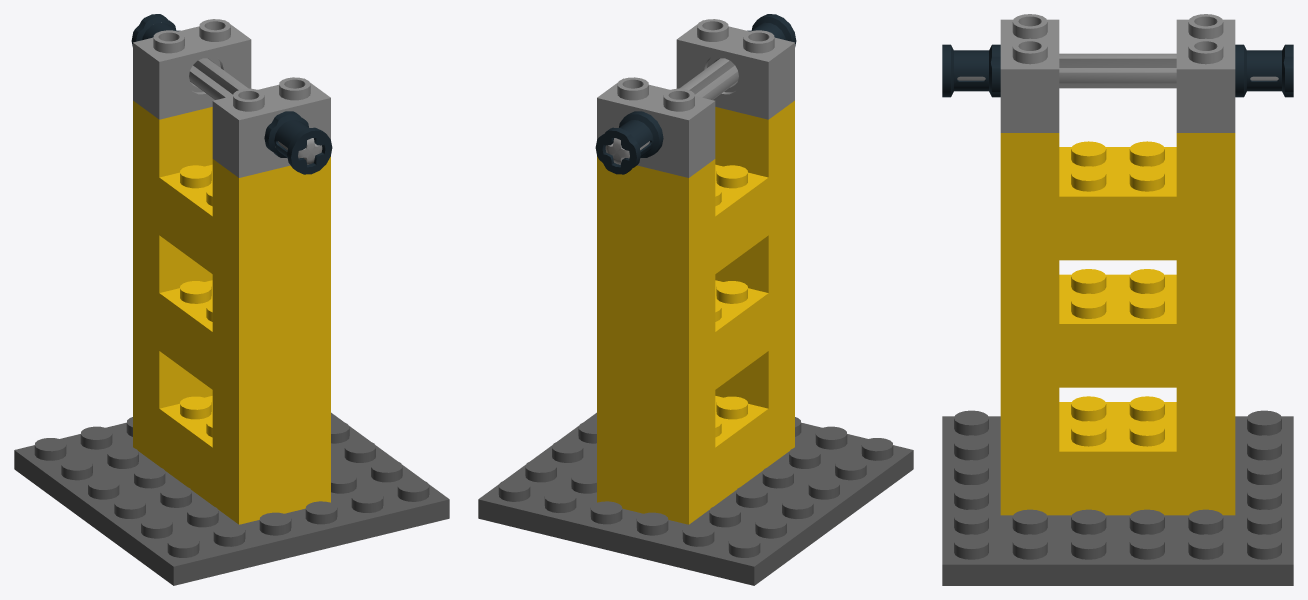
Rendered from target-base.glb.
The picture shows the model from 3 angles, left to right: view 1: azimuth 30°, elevation 25°; view 2: azimuth 150°, elevation 25°; view 3: azimuth 270°, elevation 25°; orthographic projection. The views are drawn at different scales.
Visible parts, largest first — view 1: 3001.dat (×3), 3958.dat, 3004.dat (×6), 3700.dat (×2), 3713.dat (×2), 3706.dat; view 2: 3001.dat (×3), 3958.dat, 3004.dat (×6), 3700.dat (×2), 3713.dat (×2), 3706.dat; view 3: 3001.dat (×3), 3958.dat, 3004.dat (×6), 3700.dat (×2), 3713.dat (×2), 3706.dat.
Part boxes in pixels (box(x1,y1,x2,y2)): 3001.dat (×3): box(133, 158, 330, 524); 3958.dat: box(14, 412, 449, 585); 3004.dat (×6): box(133, 100, 330, 466); 3700.dat (×2): box(133, 19, 330, 177); 3713.dat (×2): box(131, 14, 332, 174); 3706.dat: box(189, 58, 322, 164); 3001.dat (×3): box(597, 158, 794, 524); 3958.dat: box(478, 412, 913, 585); 3004.dat (×6): box(597, 100, 794, 466); 3700.dat (×2): box(597, 19, 794, 177); 3713.dat (×2): box(595, 14, 796, 174); 3706.dat: box(605, 58, 738, 164); 3001.dat (×3): box(1000, 141, 1235, 515); 3958.dat: box(942, 410, 1293, 585); 3004.dat (×6): box(1000, 133, 1235, 451); 3700.dat (×2): box(1000, 14, 1235, 132); 3713.dat (×2): box(942, 44, 1293, 97); 3706.dat: box(957, 53, 1278, 88).
Bounding box in the file's own units: 4.8 × 7.2 × 4.8.
